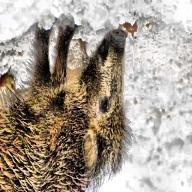boar: (1, 14, 145, 191)
